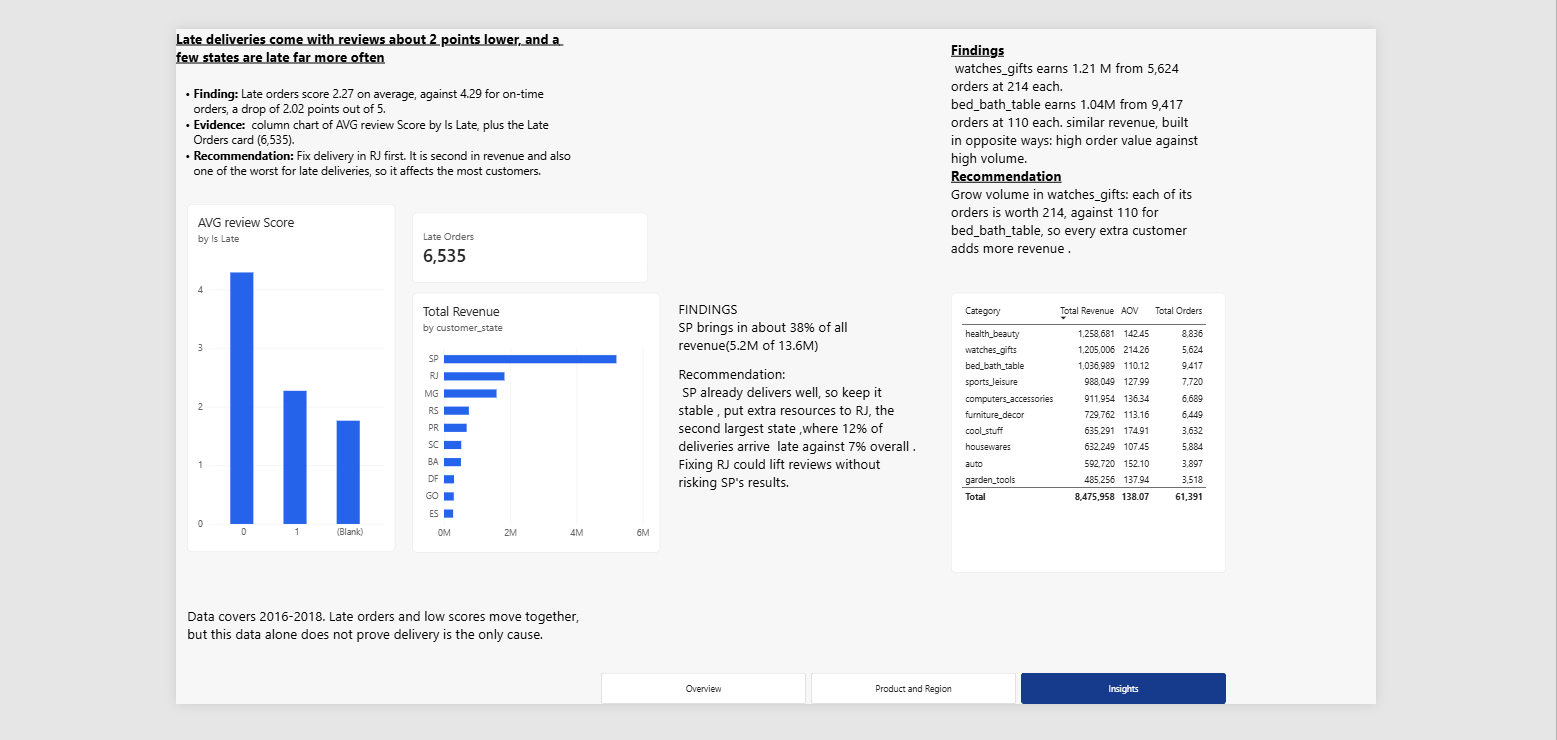

This screenshot's page, from the dashboard's own definition file:
{"tool":"powerbi","page":{"name":"Insights ","canvas":[1920,1080],"ordinal":4},"visuals":[{"type":"textbox","box":[0,0,635.7,64.3],"z":0},{"type":"clusteredColumnChart","fields":{"Category":["Orders.Is Late"],"Y":["_Measures.AVG review Score"]},"box":[18.6,280,332.9,557.1],"z":1000},{"type":"cardVisual","fields":{"Data":["_Measures.Late Orders"]},"box":[377.1,294.3,377.1,112.9],"z":2000},{"type":"textbox","box":[0,90,635.7,172.9],"z":3000},{"type":"textbox","box":[18.6,924.3,661.4,68.6],"z":4000},{"type":"clusteredBarChart","fields":{"Category":["Customers.customer_state"],"Y":["_Measures.Total Revenue"]},"box":[377.1,421.4,397.1,415.7],"z":5000},{"type":"textbox","box":[804.3,432.9,381.4,404.3],"z":6000},{"type":"tableEx","fields":{"Values":["Products.Category","_Measures.Total Revenue","_Measures.AOV","_Measures.Total Orders"]},"box":[1240,422,440,448],"z":7000},{"type":"textbox","box":[1240,17.1,397.1,390],"z":8000},{"type":"pageNavigator","box":[680,1030,1000,50],"z":8001}]}

Visuals, with their boxes on the page's 1920x1080 design canvas (x1, y1, x2, y2). These are canvas units, not pixel positions in the 1557x740 screenshot, which may show the page scaled, cropped or inside an application window:
textbox: 0, 0, 636, 64
clusteredColumnChart - Orders.Is Late x _Measures.AVG review Score: 19, 280, 352, 837
cardVisual - _Measures.Late Orders: 377, 294, 754, 407
textbox: 0, 90, 636, 263
textbox: 19, 924, 680, 993
clusteredBarChart - Customers.customer_state x _Measures.Total Revenue: 377, 421, 774, 837
textbox: 804, 433, 1186, 837
tableEx - Products.Category x _Measures.Total Revenue: 1240, 422, 1680, 870
textbox: 1240, 17, 1637, 407
pageNavigator: 680, 1030, 1680, 1080
